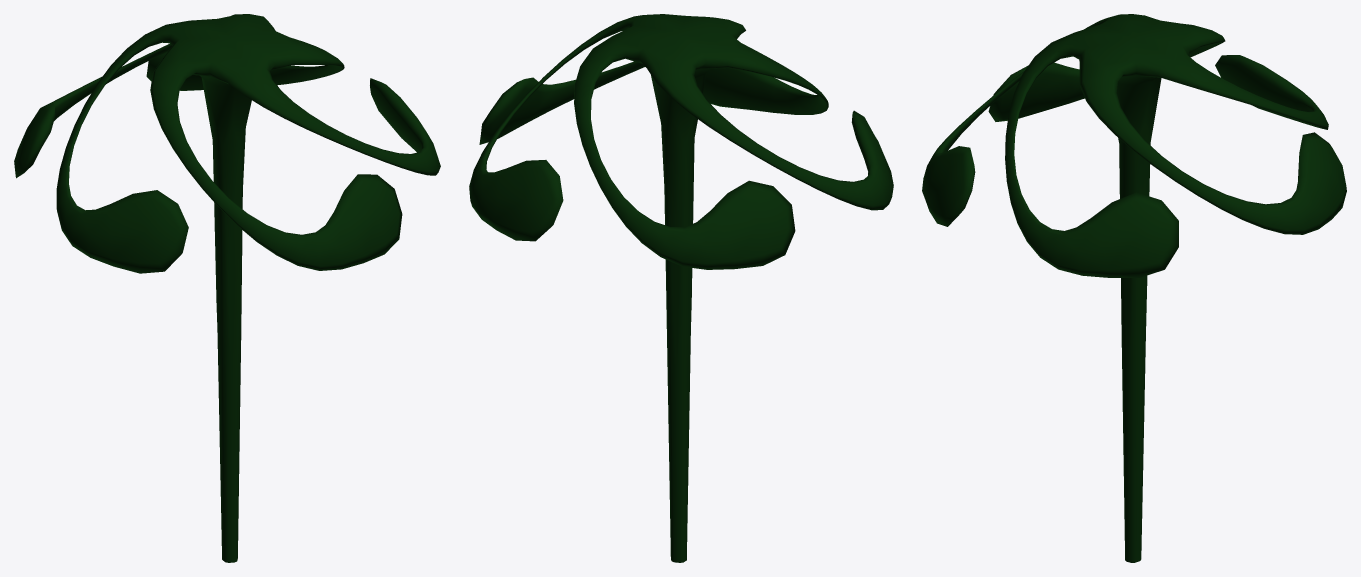
Rendered from alientree.obj.
3 renders of one model, left to right at view 1: azimuth 30°, elevation 25°; view 2: azimuth 150°, elevation 25°; view 3: azimuth 270°, elevation 25°, orthographic.
Parts seen in each view (by area): view 1: strangetree; view 2: strangetree; view 3: strangetree.
Part boxes in pixels (left/top/right/bottom): strangetree: left=14, top=14, right=440, bottom=562; strangetree: left=469, top=14, right=893, bottom=562; strangetree: left=922, top=14, right=1346, bottom=562.
Bounding box in the file's own units: 2.89 × 3.93 × 2.89.
